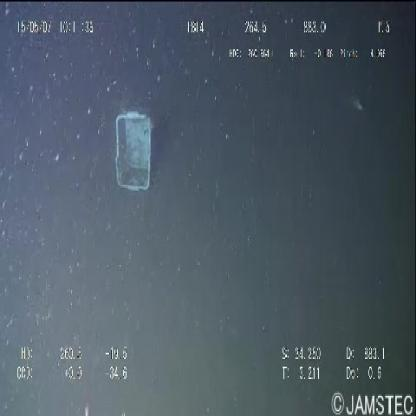Rác: (108, 107, 155, 200)
